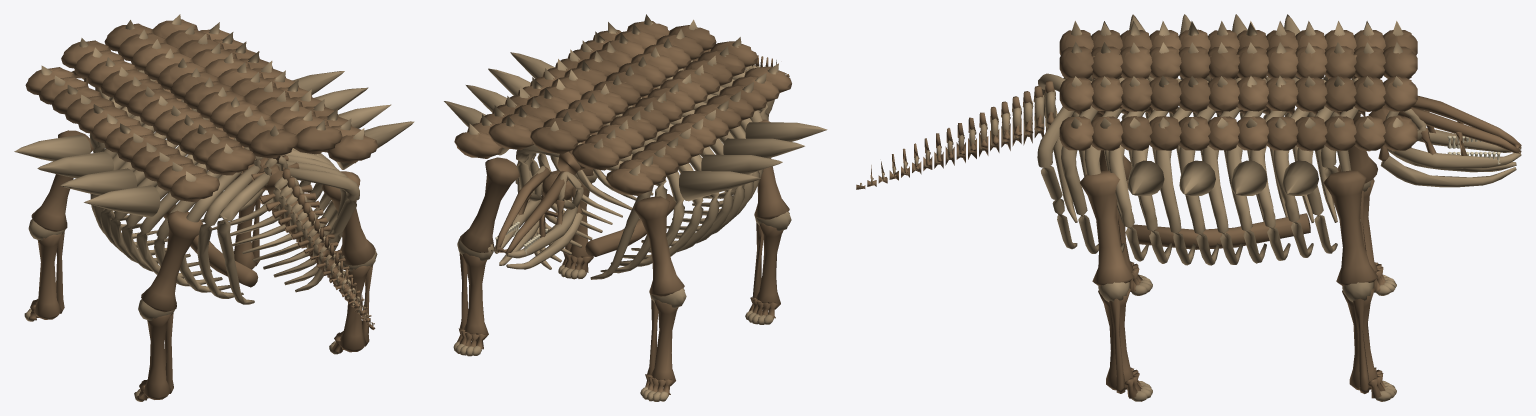
The picture shows the model from 3 angles, left to right: view 1: azimuth 30°, elevation 25°; view 2: azimuth 150°, elevation 25°; view 3: azimuth 270°, elevation 25°; orthographic projection. The views are drawn at different scales.
Visible parts, largest first — view 1: D03_SPEC_Fossil umber_export, D03_SPEC_Fossil ridge_export; view 2: D03_SPEC_Fossil umber_export, D03_SPEC_Fossil ridge_export; view 3: D03_SPEC_Fossil umber_export, D03_SPEC_Fossil ridge_export.
Boxes of the visible parts, x1,y1,x2,y2 form: D03_SPEC_Fossil umber_export: [25, 19, 377, 400]; D03_SPEC_Fossil ridge_export: [14, 14, 414, 401]; D03_SPEC_Fossil umber_export: [454, 21, 791, 394]; D03_SPEC_Fossil ridge_export: [444, 14, 827, 401]; D03_SPEC_Fossil umber_export: [856, 29, 1521, 398]; D03_SPEC_Fossil ridge_export: [860, 14, 1521, 401].
Bounding box in the file's own units: 2.48 × 1.94 × 3.88.
